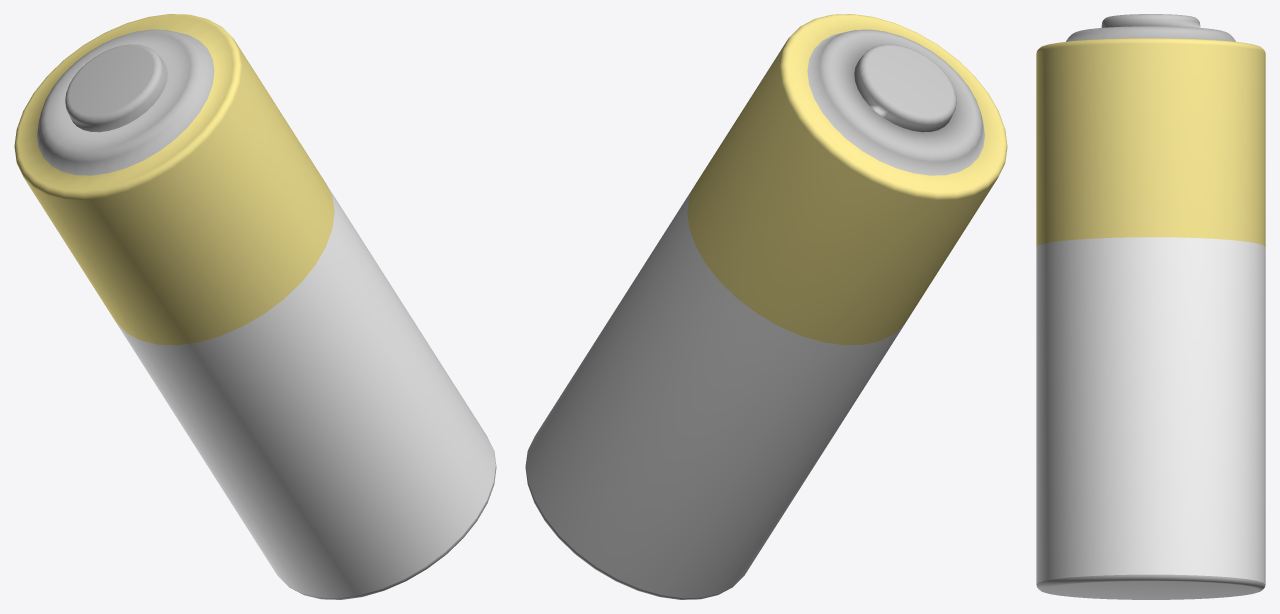
File: Battery.fbx
3 views of the same model, side by side, from view 1: azimuth 30°, elevation 25°; view 2: azimuth 150°, elevation 25°; view 3: azimuth 270°, elevation 25° (orthographic). The views are drawn at different scales.
Parts seen in each view (by area): view 1: 실린더; view 2: 실린더; view 3: 실린더.
Boxes of the visible parts, x1,y1,x2,y2 form: 실린더: (14, 14, 496, 599); 실린더: (525, 14, 1007, 599); 실린더: (1036, 14, 1265, 599).
Size of the model in its own units: 1.22 by 1.52 by 0.6.
